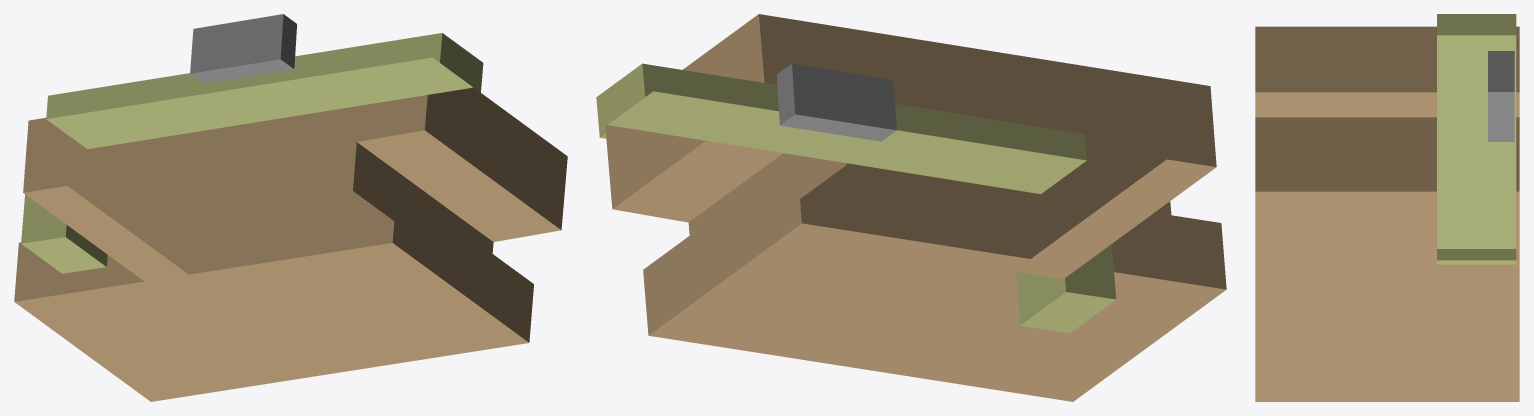
3 views of the same model, side by side, from view 1: azimuth 30°, elevation 25°; view 2: azimuth 150°, elevation 25°; view 3: azimuth 270°, elevation 25° (orthographic). The views are drawn at different scales.
Visible parts, largest first — view 1: 0_3_2_0_1_3_1_3_0; view 2: 0_3_2_0_1_3_1_3_0; view 3: 0_3_2_0_1_3_1_3_0.
Part boxes in pixels (bbox=[...]): 0_3_2_0_1_3_1_3_0: bbox=[14, 14, 567, 401]; 0_3_2_0_1_3_1_3_0: bbox=[596, 14, 1226, 401]; 0_3_2_0_1_3_1_3_0: bbox=[1255, 14, 1519, 401].
Size of the model in its own units: 54.01 by 32.09 by 30.
